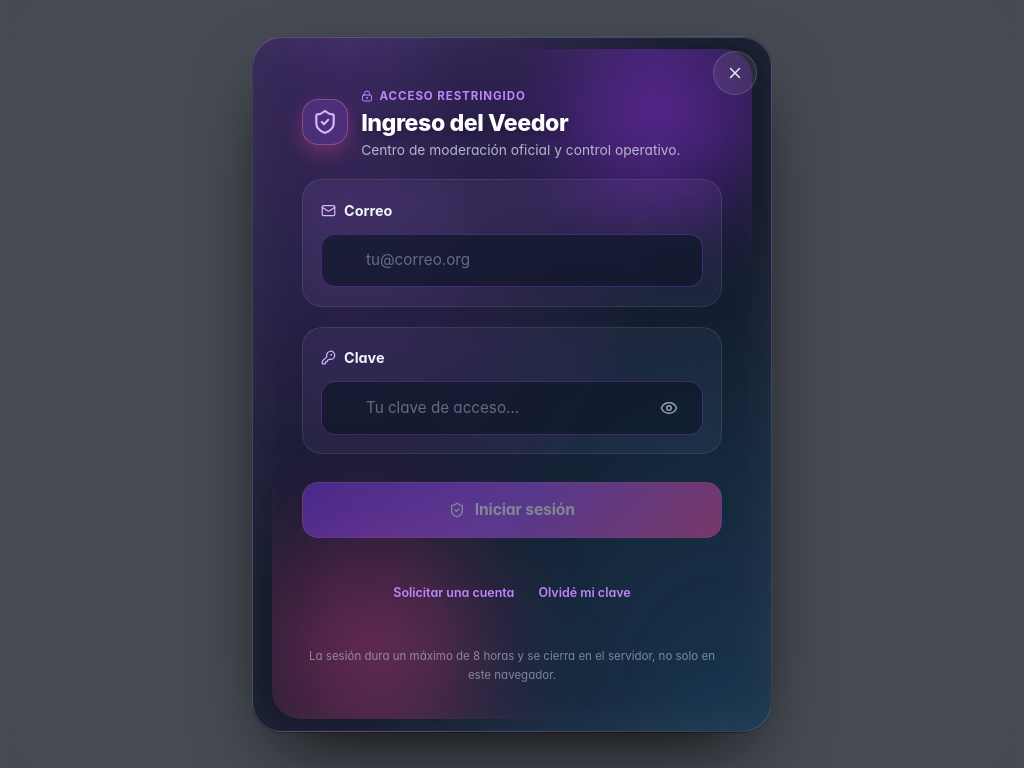
SeccionVeedor — ingreso emergente › confirma el envio del enlace sin decir si el correo tenia cuenta
Click the button "Olvidé mi clave": (584, 593) [534,571,635,615]
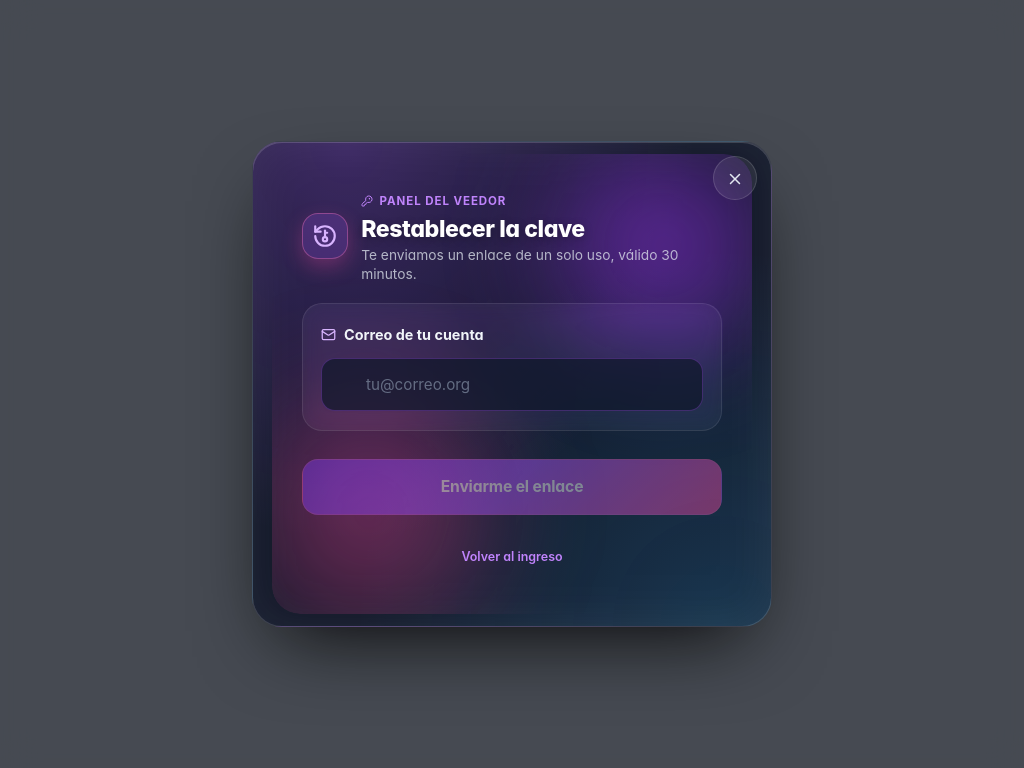
In the field labelled "Correo de tu cuenta": (512, 385) [321,358,703,411], type "quien@sea.co"
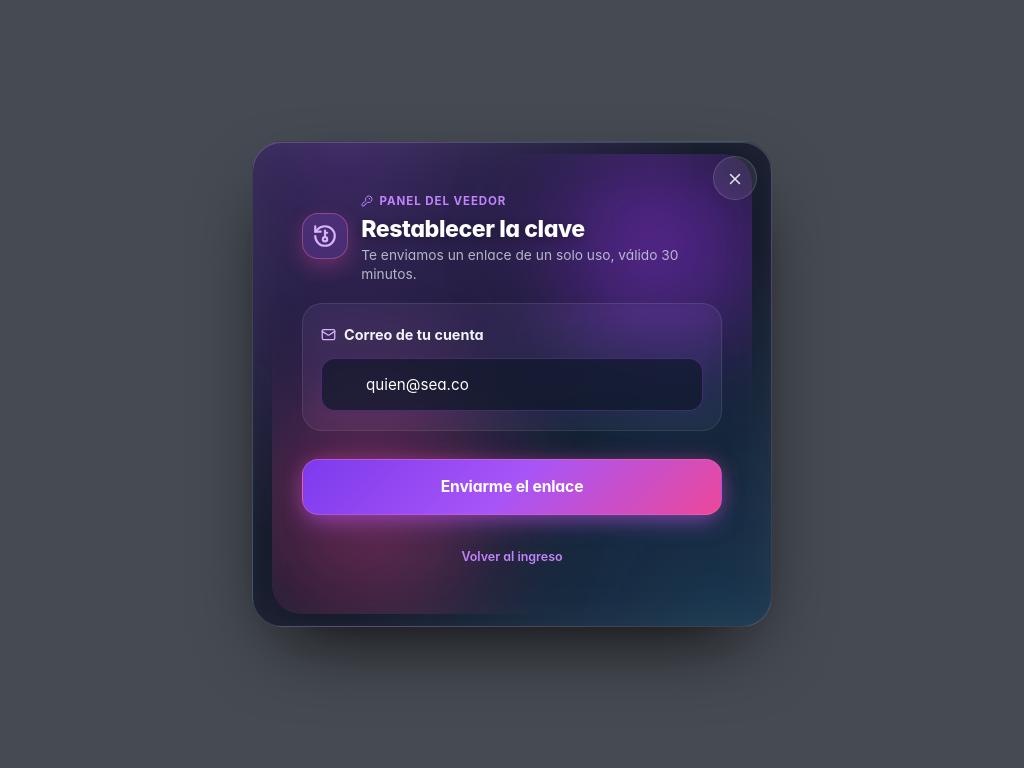
Click the button "Enviarme el enlace": (512, 487) [302,459,722,515]
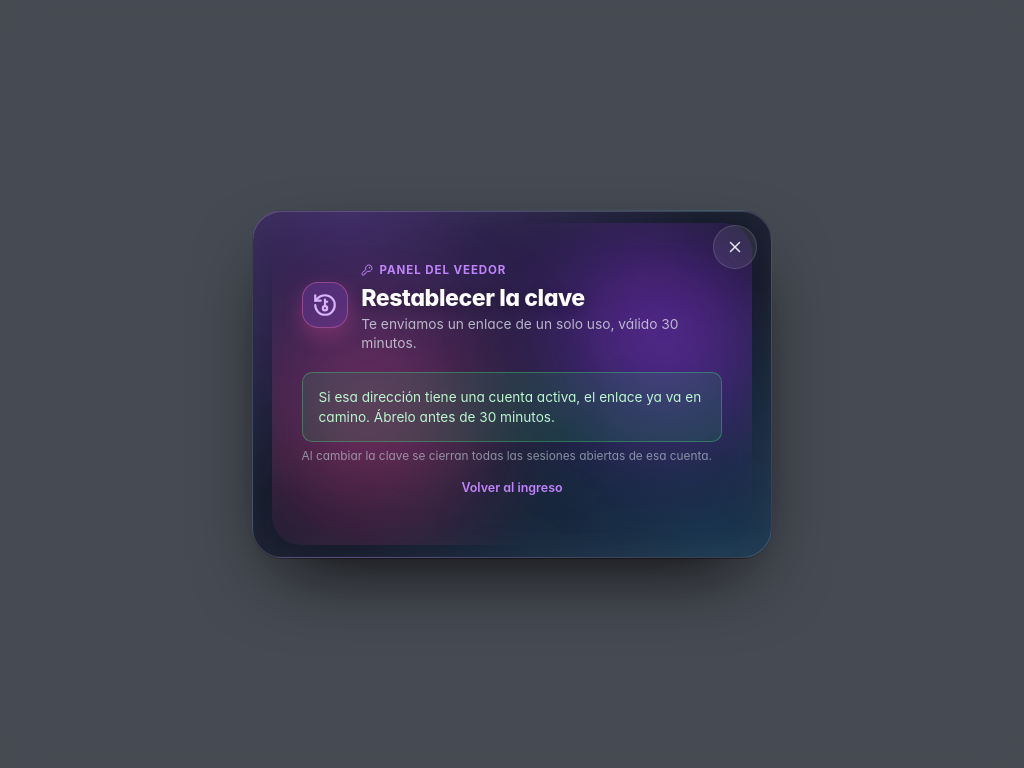
Expected: the message shows "Si esa dirección tiene una cuenta activa", [319,389,701,425]
